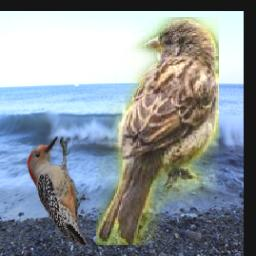Sparrow: (97, 18, 220, 246)
Woodpecker: (27, 137, 86, 245)
